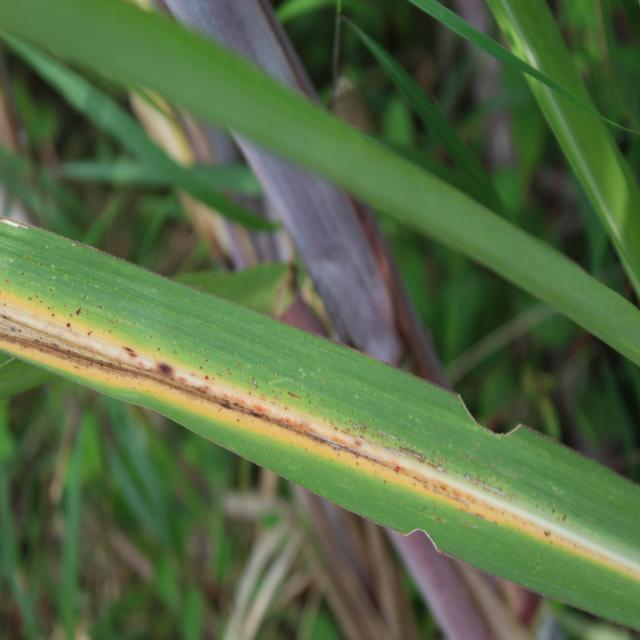Sugarcane: (2, 0, 640, 396), (1, 258, 631, 594), (336, 10, 516, 220), (0, 22, 166, 185), (492, 3, 630, 171), (98, 398, 176, 554), (0, 138, 90, 242), (148, 171, 284, 232), (79, 188, 140, 260), (124, 194, 178, 271), (54, 153, 168, 187)
